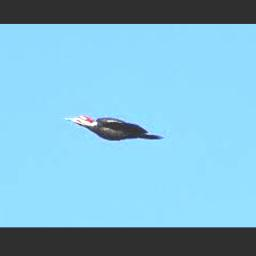Woodpecker: (65, 114, 163, 141)
